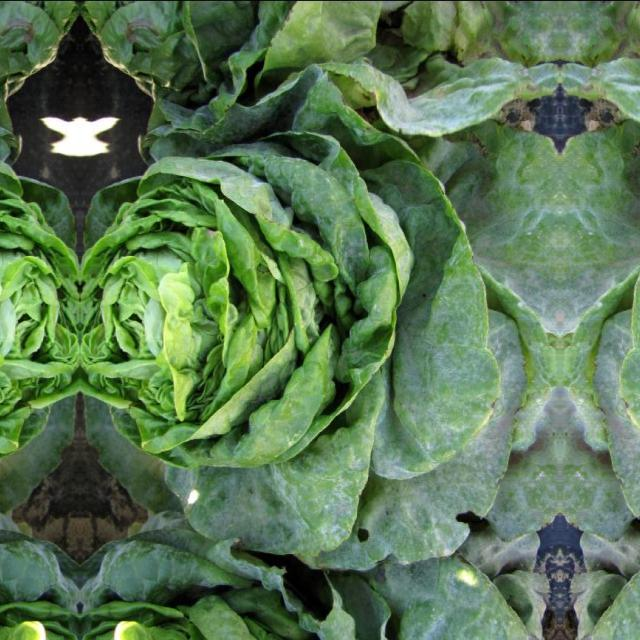healthy: (80, 116, 560, 562), (80, 0, 560, 142), (80, 516, 532, 640), (0, 116, 80, 562), (560, 116, 640, 562), (0, 0, 80, 142), (560, 0, 640, 142), (0, 516, 80, 639), (588, 516, 640, 639)
